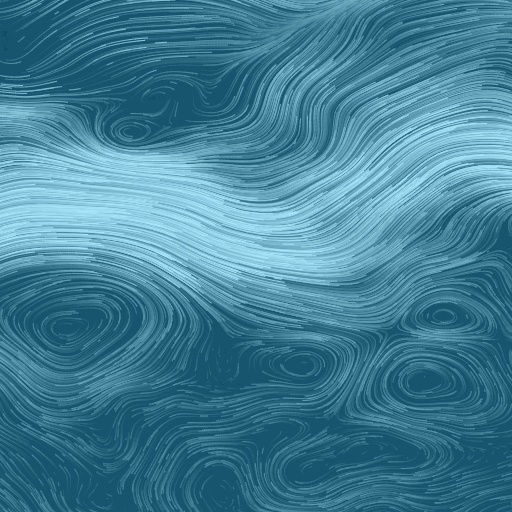eddy: (3, 274, 150, 389), (276, 430, 425, 496), (382, 345, 486, 414), (252, 340, 338, 391), (404, 293, 482, 337), (111, 116, 154, 147)
